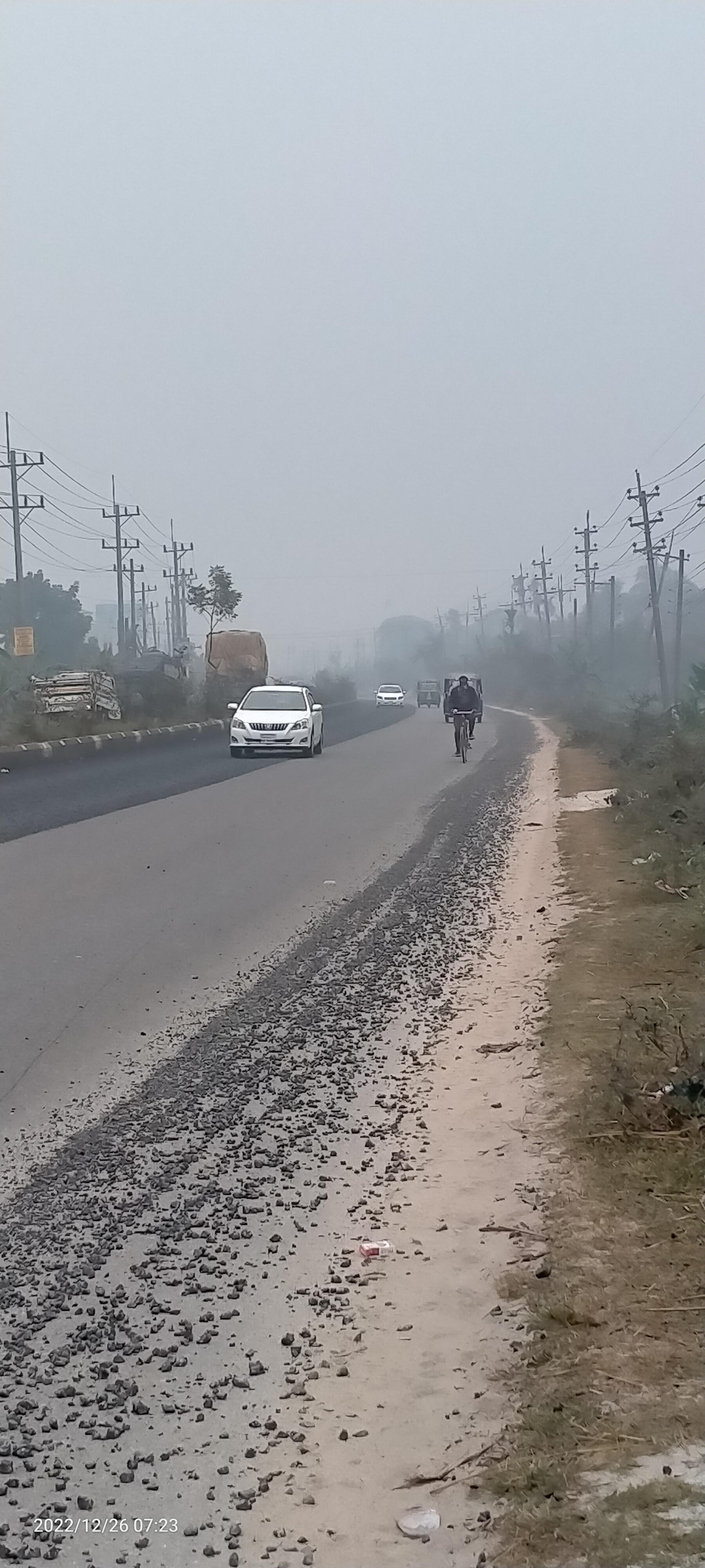Car: (217, 679, 344, 768), (362, 678, 409, 712)
Truck: (18, 653, 137, 730), (199, 615, 272, 720)
